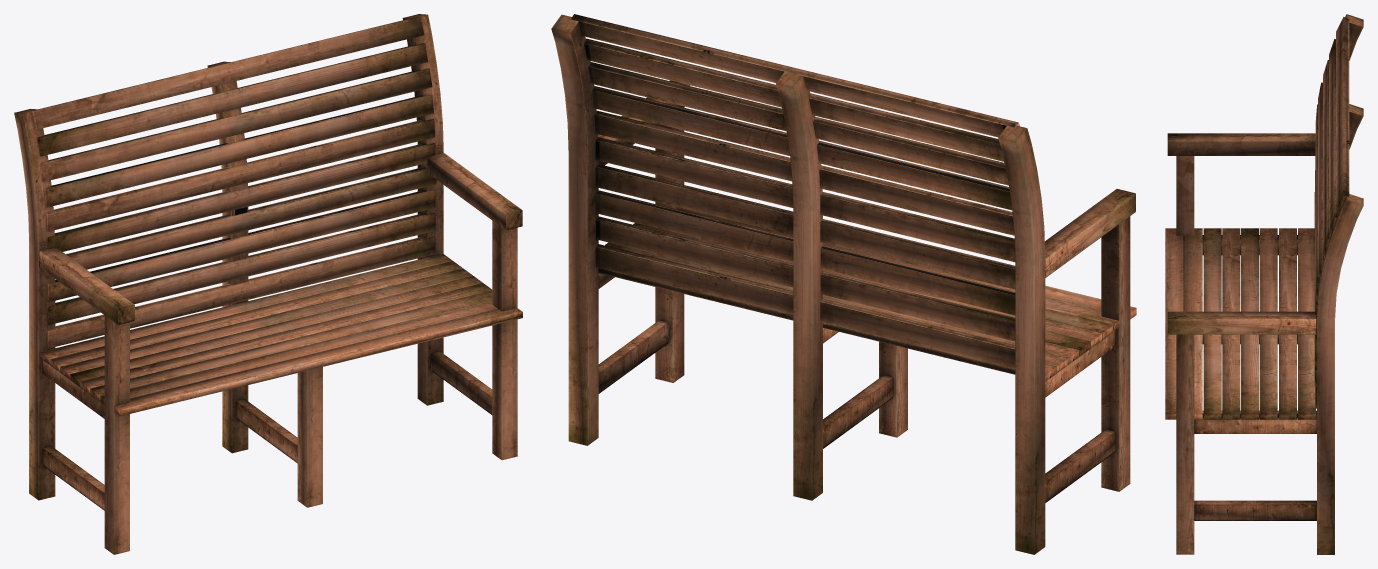
The model's file is 05_02_bench.dae.
3 renders of one model, left to right at view 1: azimuth 30°, elevation 25°; view 2: azimuth 150°, elevation 25°; view 3: azimuth 270°, elevation 25°, orthographic. The views are drawn at different scales.
Parts seen in each view (by area): view 1: lowpoly; view 2: lowpoly; view 3: lowpoly.
Part boxes in pixels (box(x1,y1,x2,y2)): lowpoly: box(14, 14, 522, 554); lowpoly: box(551, 14, 1136, 554); lowpoly: box(1165, 14, 1363, 554).
Bounding box in the file's own units: 2.08 × 1.85 × 0.9351.
